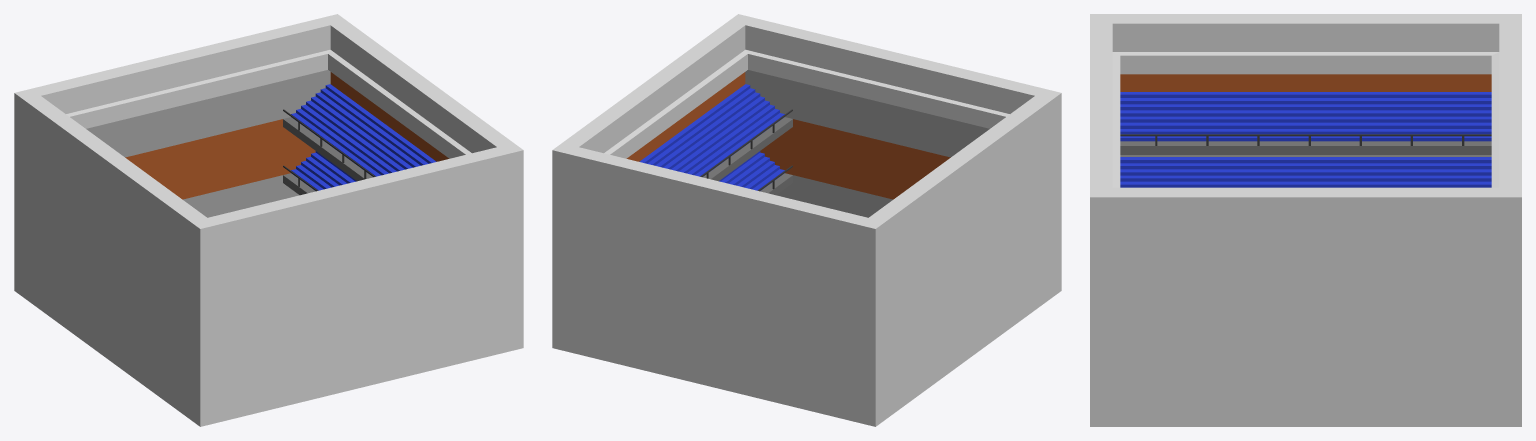
File: cenario2.fbx
The picture shows the model from 3 angles, left to right: view 1: azimuth 30°, elevation 25°; view 2: azimuth 150°, elevation 25°; view 3: azimuth 270°, elevation 25°; orthographic projection. The views are drawn at different scales.
Parts seen in each view (by area): view 1: Cube; view 2: Cube; view 3: Cube.
Part boxes in pixels (box(x1,y1,x2,y2)): Cube: box(14, 14, 523, 426); Cube: box(552, 14, 1061, 426); Cube: box(1090, 14, 1521, 426).
Size of the model in its own units: 3481 by 2036 by 3468.
